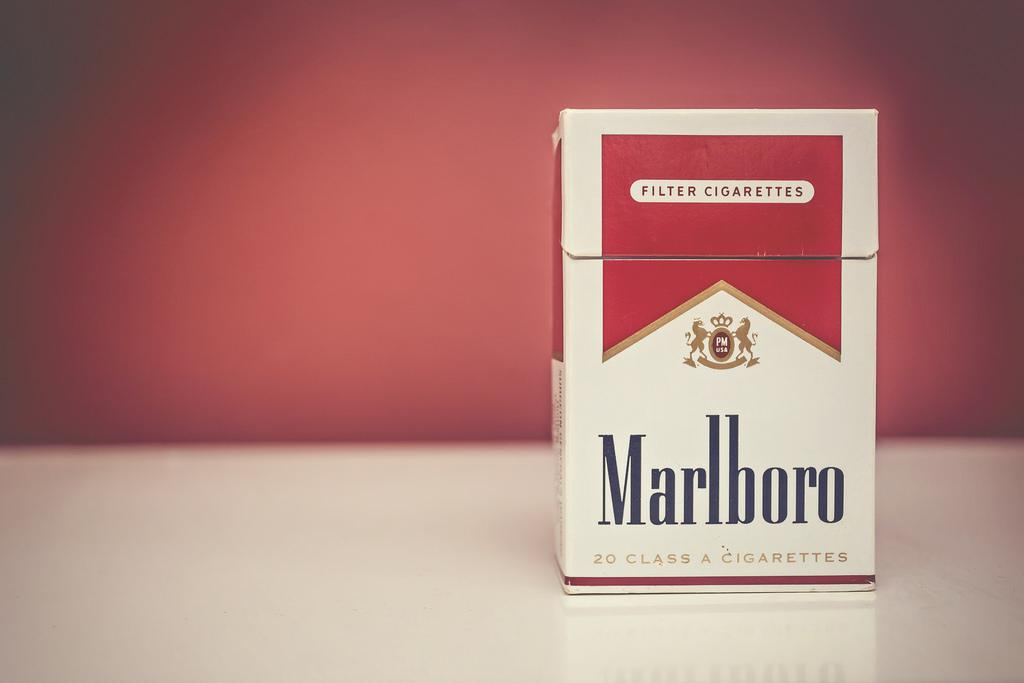marlboro_red: (569, 111, 872, 592)
